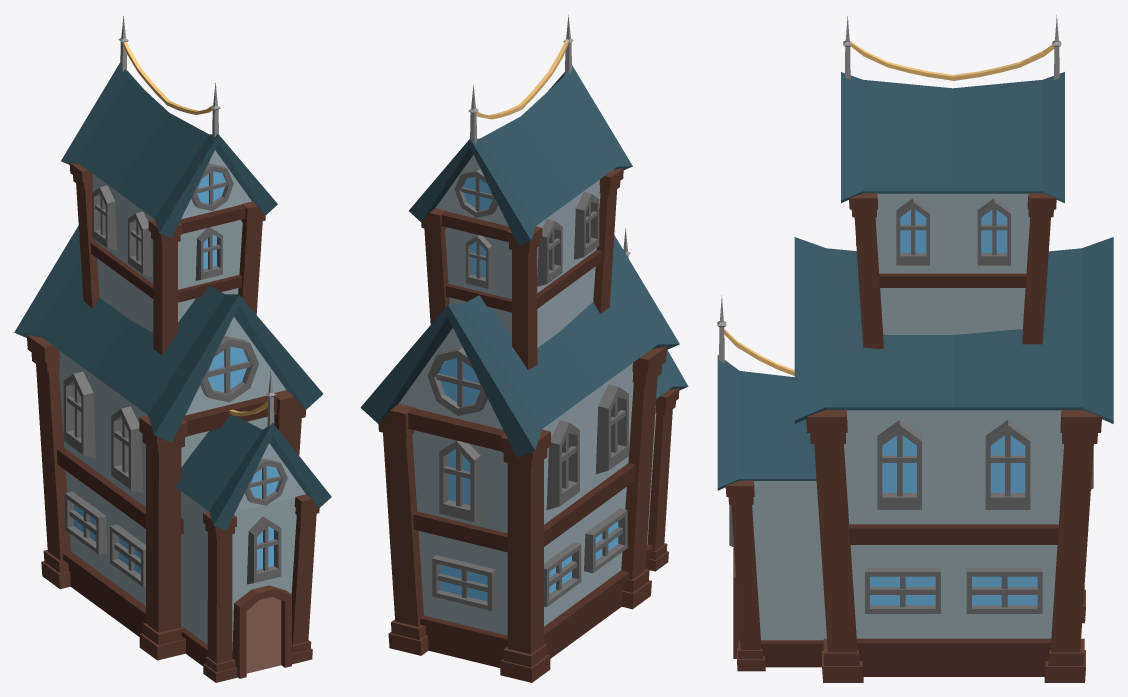
The model's file is CASA09.fbx.
3 renders of one model, left to right at view 1: azimuth 30°, elevation 25°; view 2: azimuth 150°, elevation 25°; view 3: azimuth 270°, elevation 25°, orthographic. The views are drawn at different scales.
Visible parts, largest first — view 1: CASA09; view 2: CASA09; view 3: CASA09.
Part boxes in pixels (bbox=[...]): CASA09: bbox=[14, 16, 331, 682]; CASA09: bbox=[360, 14, 688, 682]; CASA09: bbox=[717, 15, 1113, 682].
Bounding box in the file's own units: 586 × 1833 × 1043.
1 material, 1 textured.
